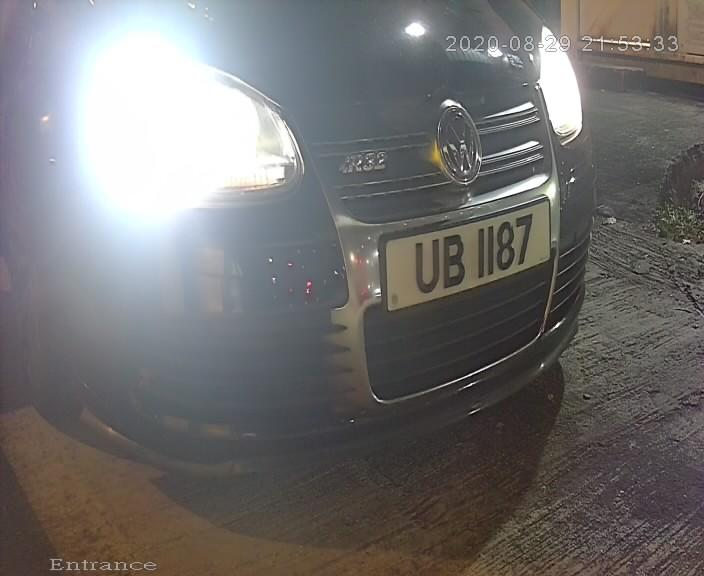License Plate: (375, 196, 544, 317)
